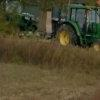Tractor: (39, 3, 100, 60)
